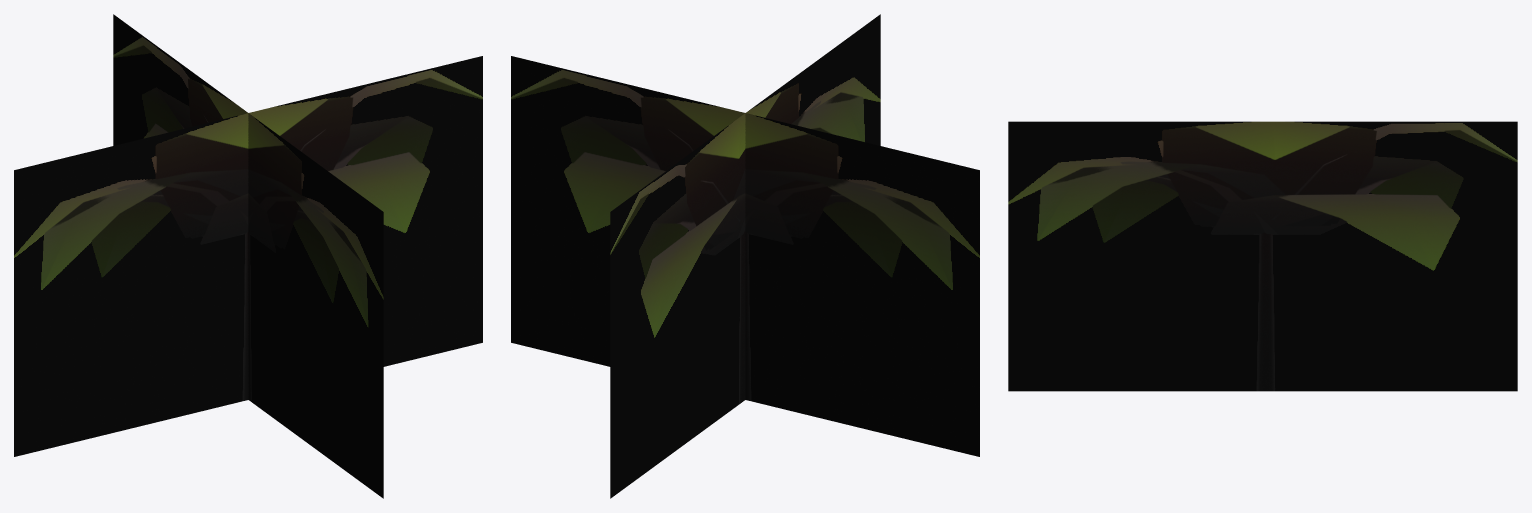
Rendered from banana_b_card.glb.
3 views of the same model, side by side, from view 1: azimuth 30°, elevation 25°; view 2: azimuth 150°, elevation 25°; view 3: azimuth 270°, elevation 25° (orthographic). The views are drawn at different scales.
Visible parts, largest first — view 1: banana_b_card; view 2: banana_b_card; view 3: banana_b_card.
Boxes of the visible parts, x1,y1,x2,y2 form: banana_b_card: (14,14,482,498); banana_b_card: (511,14,979,498); banana_b_card: (1008,121,1517,391).
Bounding box in the file's own units: 4.54 × 2.66 × 4.54.
Materials: 1 (1 with a texture image).
